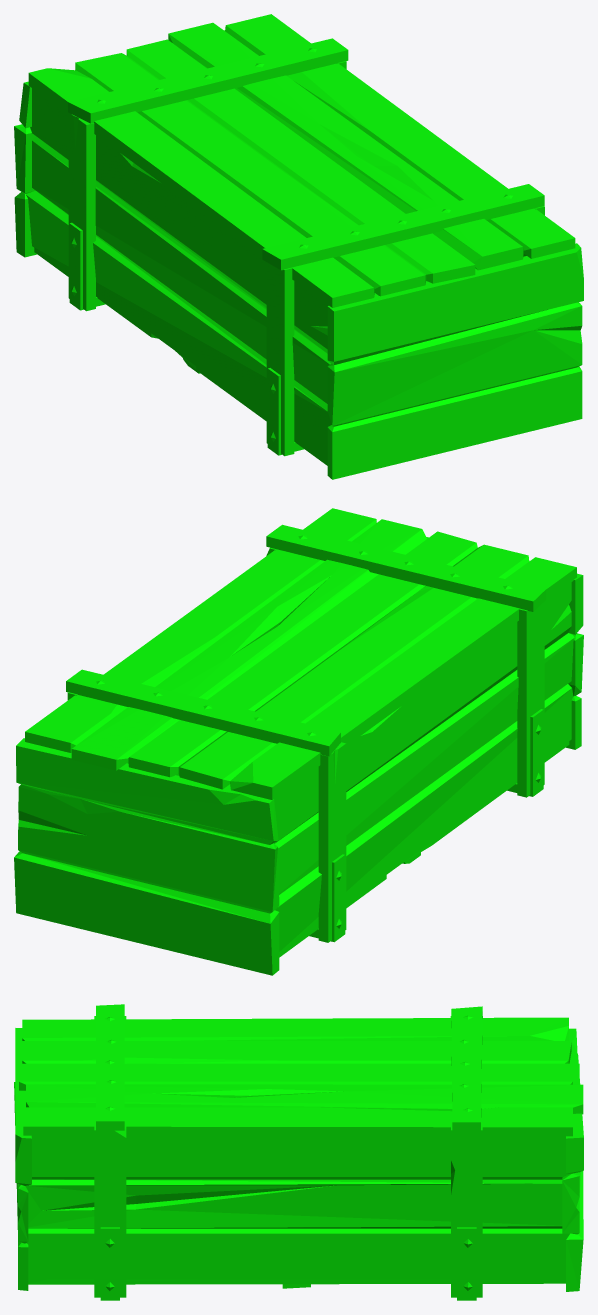
Rendered from SM_Crate_Big_Fantasy.fbx.
3 renders of one model, top to bottom at view 1: azimuth 30°, elevation 25°; view 2: azimuth 150°, elevation 25°; view 3: azimuth 270°, elevation 25°, orthographic. The views are drawn at different scales.
Visible parts, largest first — view 1: crate-big-base-fantasy, crate-big-lid-fantasy; view 2: crate-big-base-fantasy, crate-big-lid-fantasy; view 3: crate-big-base-fantasy, crate-big-lid-fantasy.
Boxes of the visible parts, x1,y1,x2,y2 form: crate-big-base-fantasy: [14, 30, 583, 479]; crate-big-lid-fantasy: [28, 14, 575, 307]; crate-big-base-fantasy: [14, 537, 583, 975]; crate-big-lid-fantasy: [25, 508, 576, 799]; crate-big-base-fantasy: [14, 1016, 583, 1300]; crate-big-lid-fantasy: [19, 1004, 583, 1137].
Size of the model in its own units: 1.18 by 0.8357 by 2.4.
